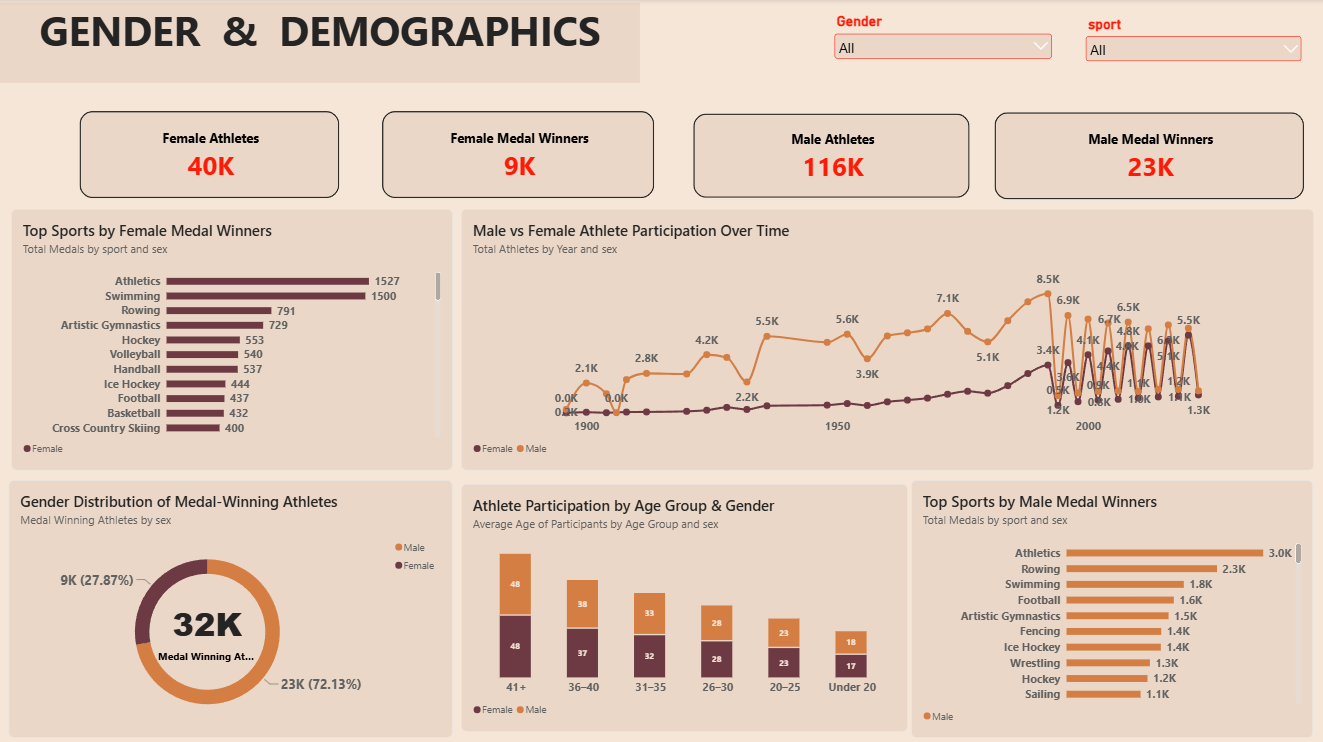

Layout of this report page (visuals, bound fields, positions):
{"tool":"powerbi","page":{"name":"Gender & Demographics 6","canvas":[1920,1080],"ordinal":5},"visuals":[{"type":"donutChart","title":"Gender Distribution of Medal-Winning Athletes","fields":{"Category":["Olympic_Athlete_Bio.sex"],"Y":["measure table.Medal Winning Athletes"]},"box":[12.7,696.7,642.4,372.8],"z":0},{"type":"columnChart","title":"Athlete Participation by Age Group & Gender","fields":{"Series":["Olympic_Athlete_Bio.sex"],"Category":["Olympic_Athlete_Event_Results.Age Group"],"Y":["measure table.Average Age of Participants"]},"box":[668.3,701.7,646.5,358.2],"z":1000},{"type":"barChart","title":"Top  Sports by Male Medal Winners","fields":{"Y":["measure table.Total Medals"],"Category":["Olympic_Athlete_Event_Results.sport"],"Series":["Olympic_Athlete_Bio.sex"]},"box":[1320.1,696.1,581.7,372.4],"z":2000},{"type":"barChart","title":"Top  Sports by Female Medal Winners","fields":{"Series":["Olympic_Athlete_Bio.sex"],"Category":["Olympic_Athlete_Event_Results.sport"],"Y":["measure table.Total Medals"]},"box":[16.3,304,638.8,378.2],"z":3000},{"type":"lineChart","title":"Male vs Female Athlete Participation Over Time","fields":{"Category":["Calendar.Year"],"Series":["Olympic_Athlete_Bio.sex"],"Y":["measure table.Total Athletes"]},"box":[667.8,304,1234.2,378.2],"z":4000},{"type":"cardVisual","fields":{"Data":["measure table.Female Athletes"]},"box":[103.2,150.2,400,150],"z":5000},{"type":"cardVisual","fields":{"Data":["measure table.Male Athletes"]},"box":[991.7,153.8,424,146],"z":6000},{"type":"cardVisual","fields":{"Data":["measure table.Male Medal Winners"]},"box":[1427.8,152,472,150],"z":7000},{"type":"cardVisual","fields":{"Data":["measure table.Female Medal Winners"]},"box":[541.1,150.2,418,150],"z":8000},{"type":"slicer","fields":{"Values":["Olympic_Athlete_Bio.sex"]},"box":[1203.4,19.9,323.9,101.3],"z":9000},{"type":"slicer","fields":{"Values":["Olympic_Results.sport"]},"box":[1567.2,23.5,322.1,97.7],"z":10000},{"type":"textbox","box":[0,5.4,926.7,115.8],"z":11000}]}

Visuals, with their boxes in screenshot pixels (x1, y1, x2, y2), scaled from the page's 1920x1080 canvas onto the 1323x742 screenshot:
"Gender Distribution of Medal-Winning Athletes" donutChart: crop(9, 479, 451, 735)
"Athlete Participation by Age Group & Gender" columnChart: crop(461, 482, 906, 728)
"Top  Sports by Male Medal Winners" barChart: crop(910, 478, 1310, 734)
"Top  Sports by Female Medal Winners" barChart: crop(11, 209, 451, 469)
"Male vs Female Athlete Participation Over Time" lineChart: crop(460, 209, 1311, 469)
cardVisual - measure table.Female Athletes: crop(71, 103, 347, 206)
cardVisual - measure table.Male Athletes: crop(683, 106, 976, 206)
cardVisual - measure table.Male Medal Winners: crop(984, 104, 1309, 207)
cardVisual - measure table.Female Medal Winners: crop(373, 103, 661, 206)
slicer - Olympic_Athlete_Bio.sex: crop(829, 14, 1052, 83)
slicer - Olympic_Results.sport: crop(1080, 16, 1302, 83)
textbox: crop(0, 4, 639, 83)
